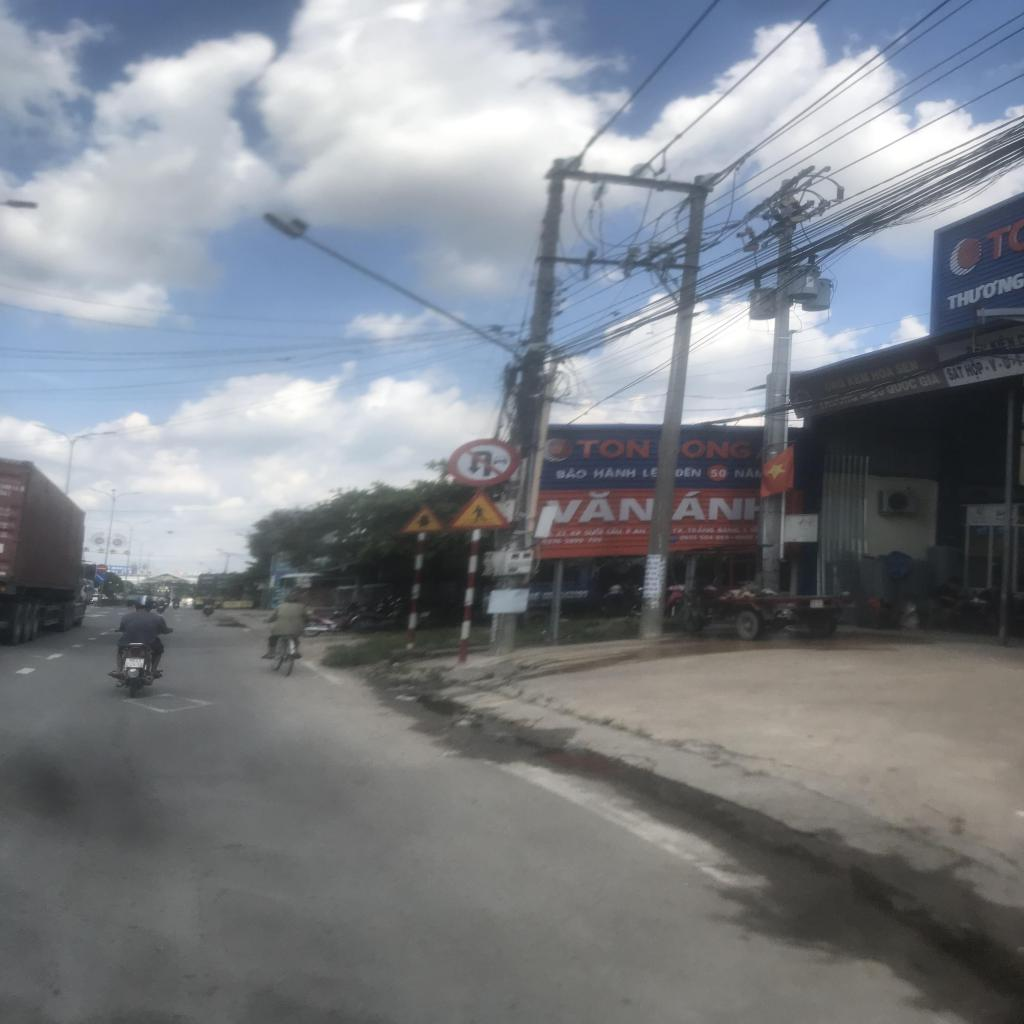cam_o_to_quay_dau_xe: (448, 438, 519, 487)
cam_xe_di_nguoc_chieu: (96, 564, 107, 573)
chu_y_nguoi_di_bo_cat_ngang: (444, 488, 513, 528)
giao_nhau_voi_duong_khong_uu_tien: (399, 506, 444, 532)
huong_phai_di_vuot_chuong_ngai_vat_phai: (95, 573, 106, 582)
